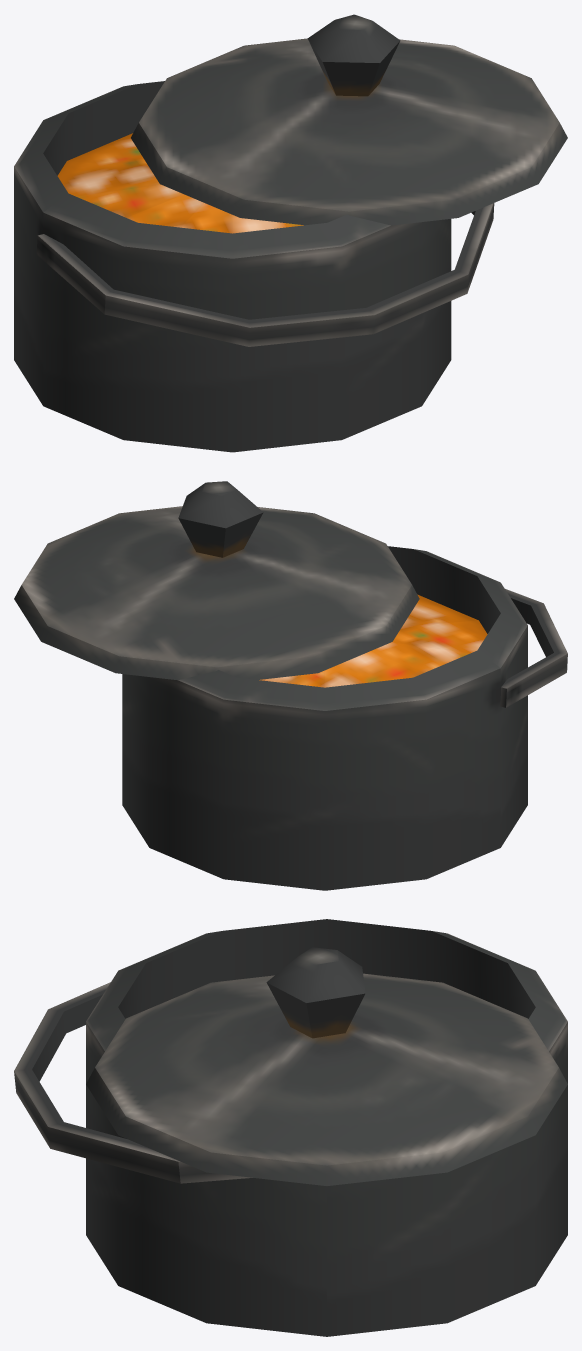
File: KTB0110018.fbx
3 views of the same model, one above another, from view 1: azimuth 30°, elevation 25°; view 2: azimuth 150°, elevation 25°; view 3: azimuth 270°, elevation 25° (orthographic). The views are drawn at different scales.
Visible parts, largest first — view 1: smKTB0110018; view 2: smKTB0110018; view 3: smKTB0110018.
Part boxes in pixels (x1=…): smKTB0110018: x1=14, y1=14, x2=567, y2=452; smKTB0110018: x1=14, y1=481, x2=567, y2=890; smKTB0110018: x1=14, y1=919, x2=567, y2=1336.
Size of the model in its own units: 52.03 by 30.79 by 45.15.
1 material, 1 textured.
